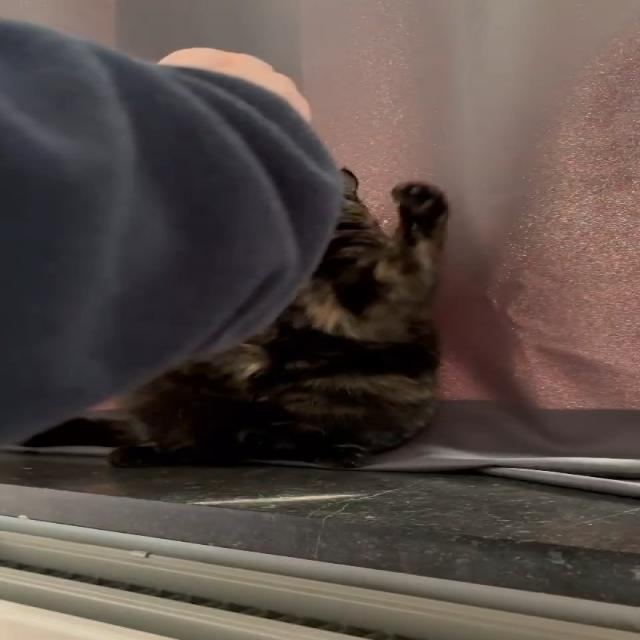authorized: (14, 166, 450, 470)
